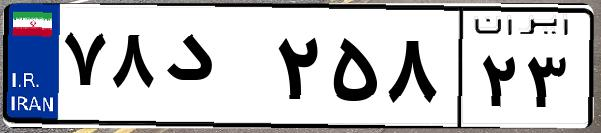2: (270, 28, 330, 110), (475, 38, 525, 113)
3: (525, 38, 570, 115)
5: (330, 28, 385, 110)
7: (57, 26, 110, 100)
8: (385, 28, 445, 110), (110, 28, 158, 98)
د: (158, 20, 270, 120)
